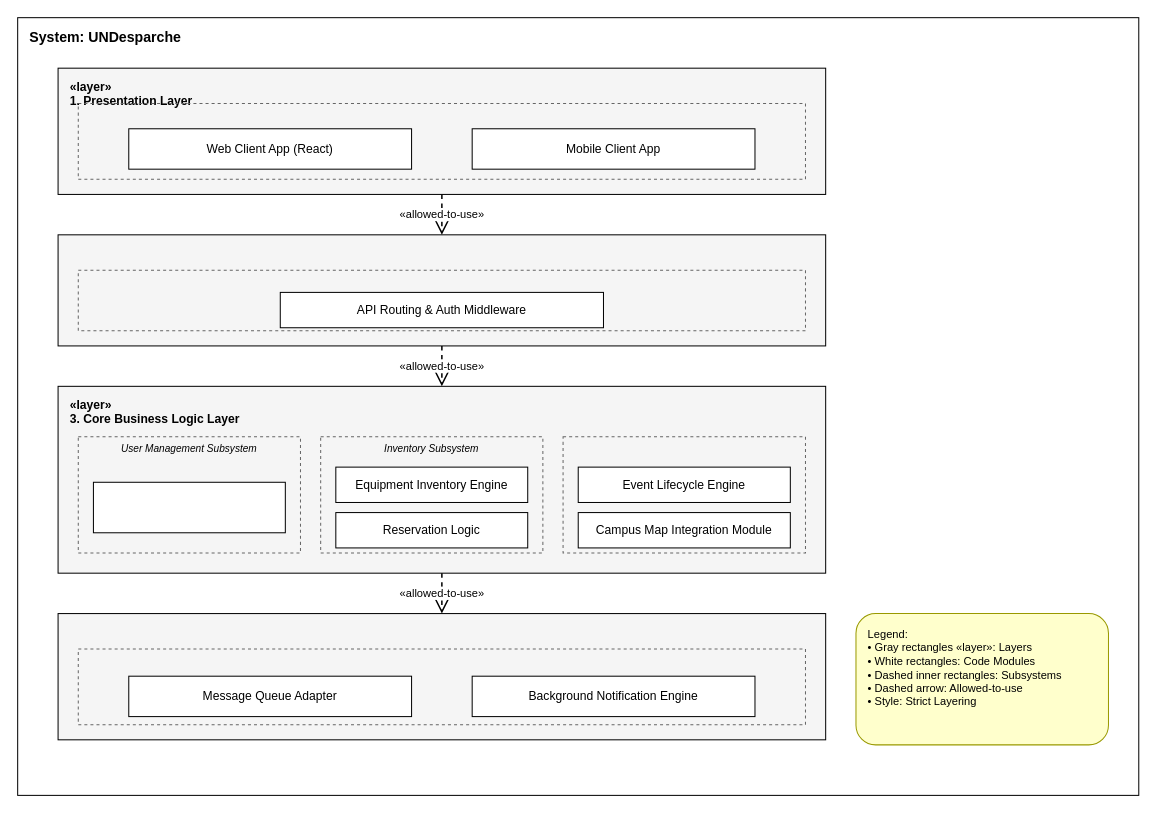
Image size: 1156x813. Some labels were removed from this diagram. The shapes that lost their labels are listed below. From the top down, each one's box as (x1, y1, x2, y2) in pixels, then its label:
(77, 103, 805, 179): Presentation Subsystem
(77, 269, 805, 331): API & Gateway Subsystem
(57, 234, 826, 346): «layer» 2. API & Gateway Layer
(92, 481, 285, 533): User Profile & Status Engine
(562, 436, 805, 553): Event Management Subsystem
(77, 648, 805, 725): Asynchronous & Notification Subsystem
(57, 613, 826, 740): «layer» 4. Support & Integration Layer
